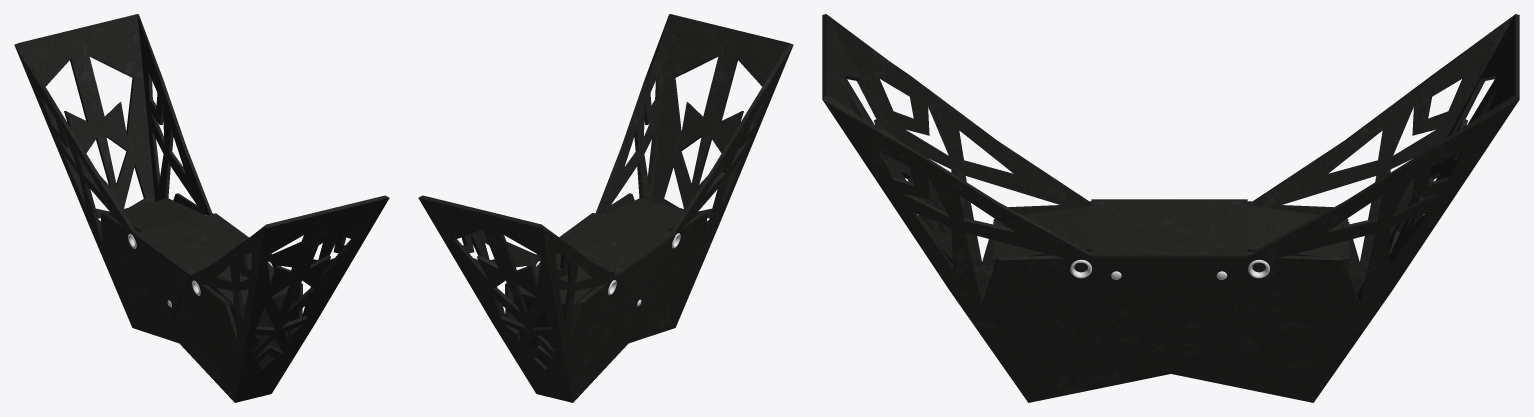
Rendered from glasinlood.glb.
3 renders of one model, left to right at view 1: azimuth 30°, elevation 25°; view 2: azimuth 150°, elevation 25°; view 3: azimuth 270°, elevation 25°, orthographic. The views are drawn at different scales.
Visible parts, largest first — view 1: Body, Cube; view 2: Body, Cube; view 3: Body, Cube.
Part boxes in pixels (x1=…): Body: x1=14, y1=14, x2=389, y2=402; Cube: x1=108, y1=198, x2=289, y2=317; Body: x1=418, y1=14, x2=793, y2=402; Cube: x1=518, y1=198, x2=699, y2=317; Body: x1=822, y1=14, x2=1519, y2=402; Cube: x1=993, y1=199, x2=1348, y2=289.
Size of the model in its own units: 1.93 by 3.58 by 6.73.
Materials: 1 (1 with a texture image).
